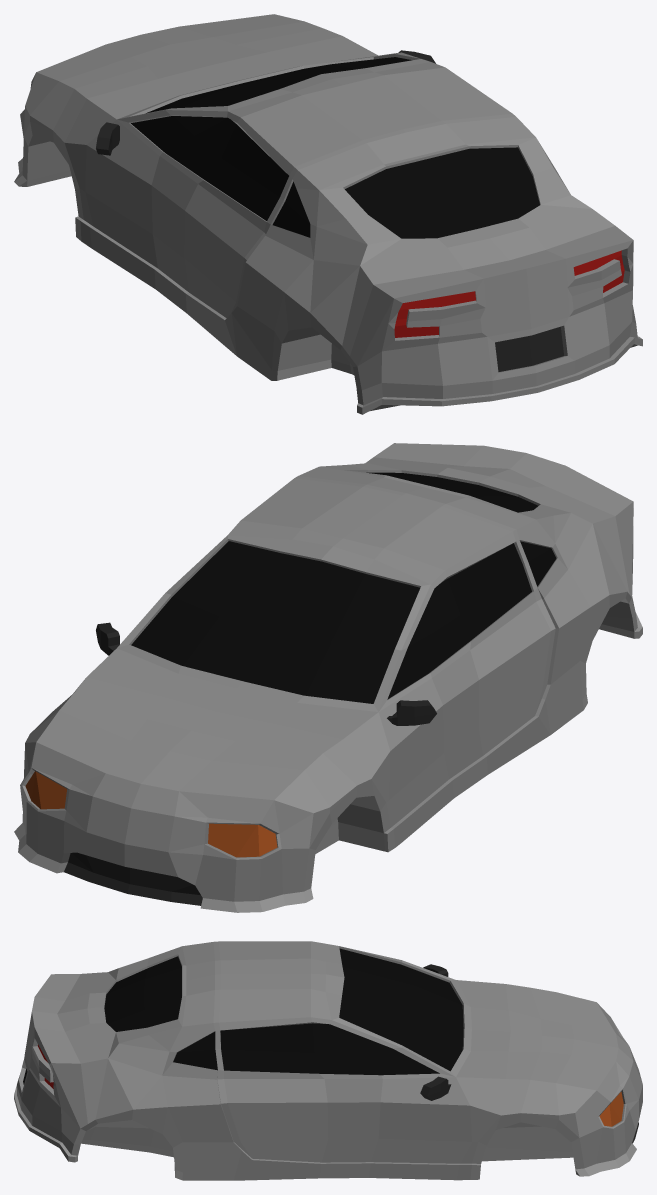
The model's file is body.obj.
3 views of the same model, one above another, from view 1: azimuth 30°, elevation 25°; view 2: azimuth 150°, elevation 25°; view 3: azimuth 270°, elevation 25° (orthographic). The views are drawn at different scales.
Bounding box in the file's own units: 2.05 × 1.13 × 4.3.
